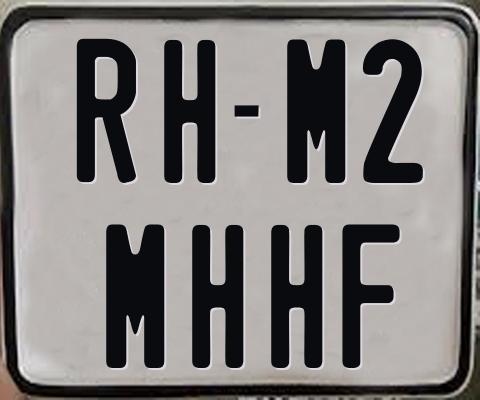2: (362, 36, 423, 182)
F: (339, 222, 398, 368)
H: (270, 222, 326, 371), (162, 37, 219, 180), (190, 224, 241, 369)
M: (284, 37, 347, 181), (105, 222, 167, 367)
R: (75, 36, 139, 184)
